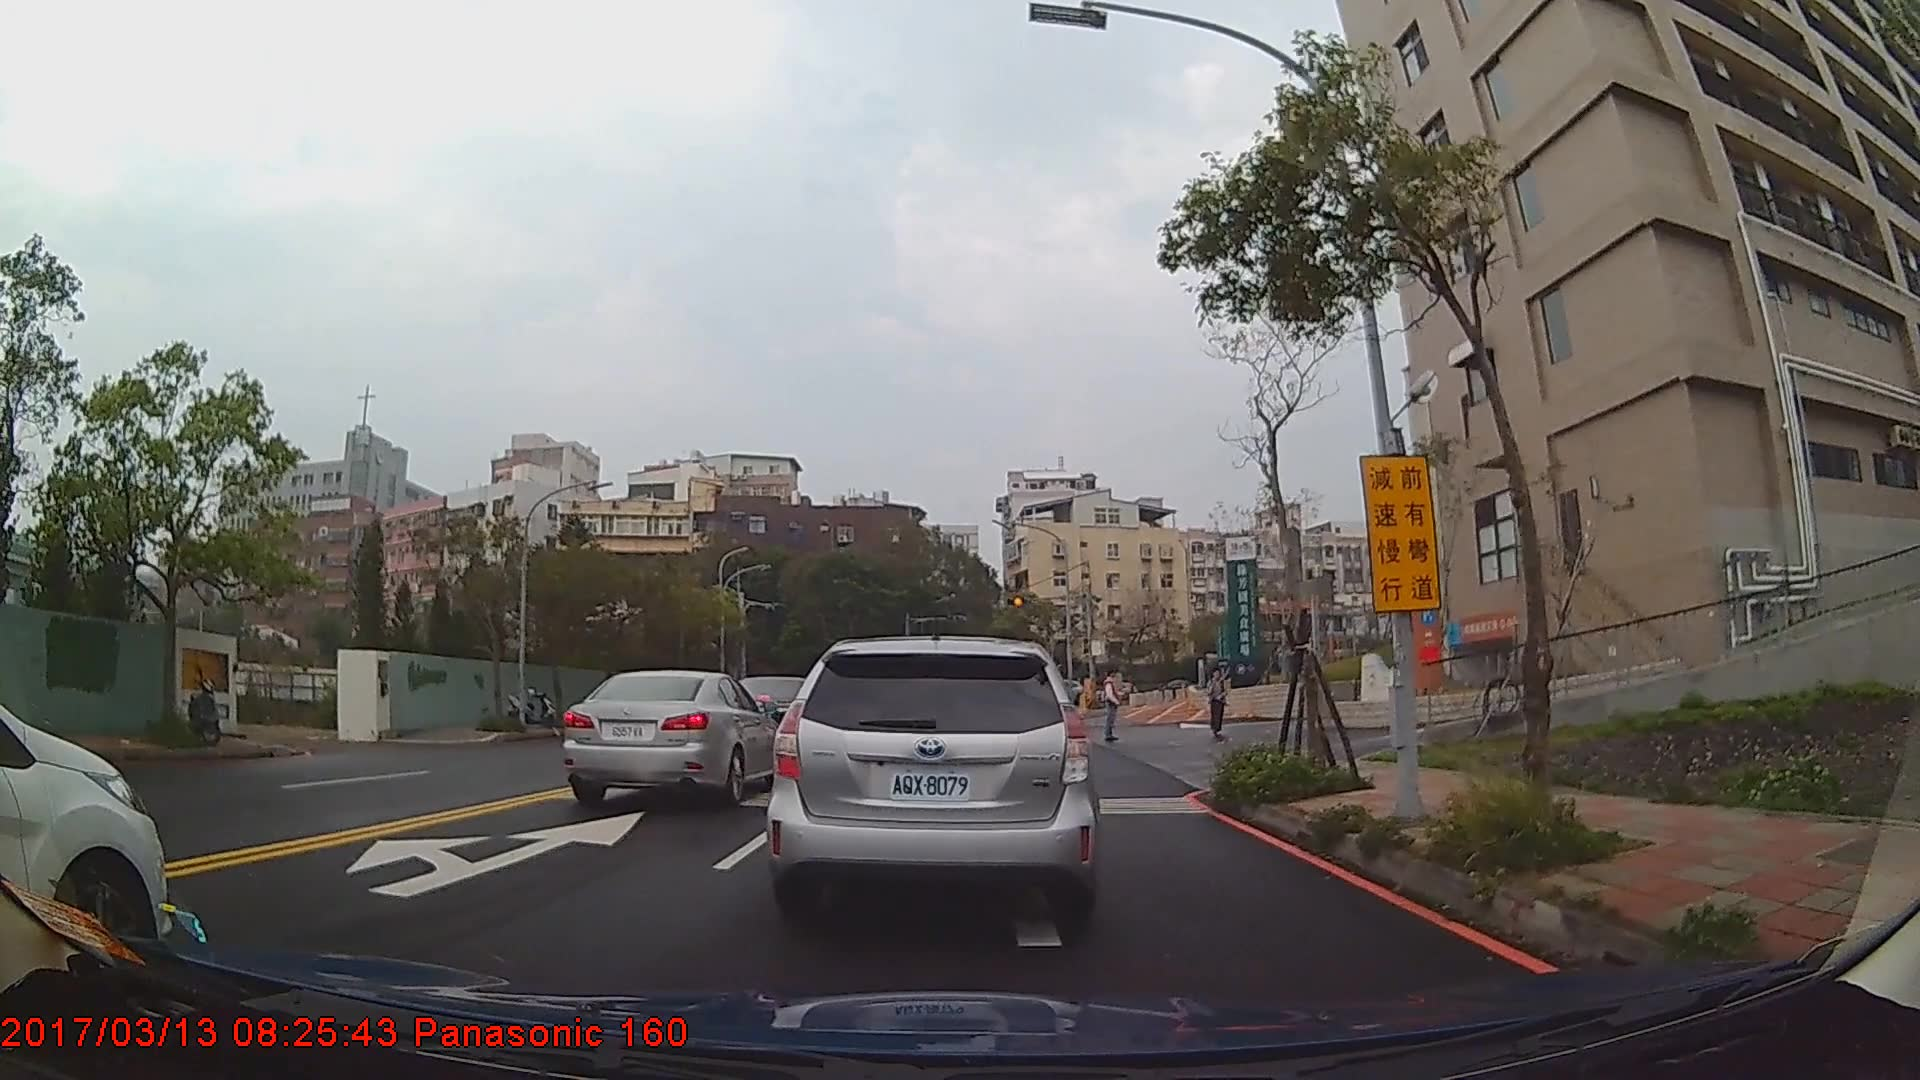pedestrian: (1101, 668, 1127, 743), (1207, 668, 1231, 740)
vehicle: (765, 634, 1101, 912), (0, 698, 167, 964), (562, 668, 789, 802)
